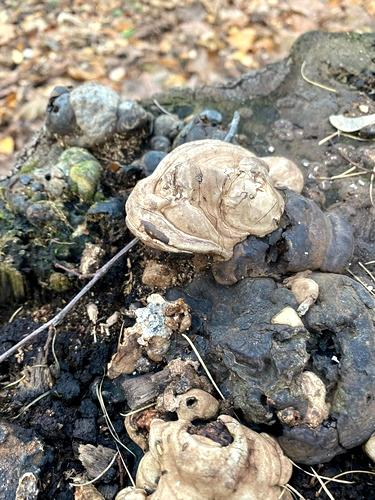Ganoderma - Fruit Body: (128, 137, 285, 253), (126, 400, 302, 500)
